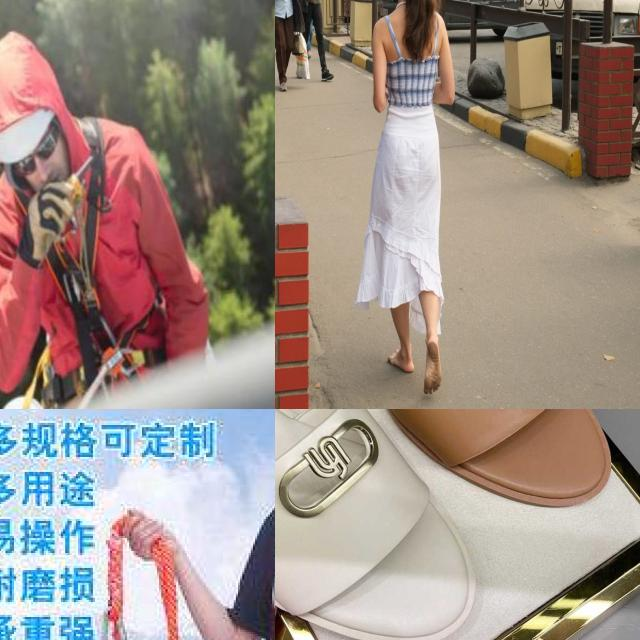Barefoots: (423, 338, 442, 394), (388, 348, 414, 372)
Harness: (21, 179, 118, 386)
Sandals: (275, 409, 493, 640), (275, 409, 622, 514)
